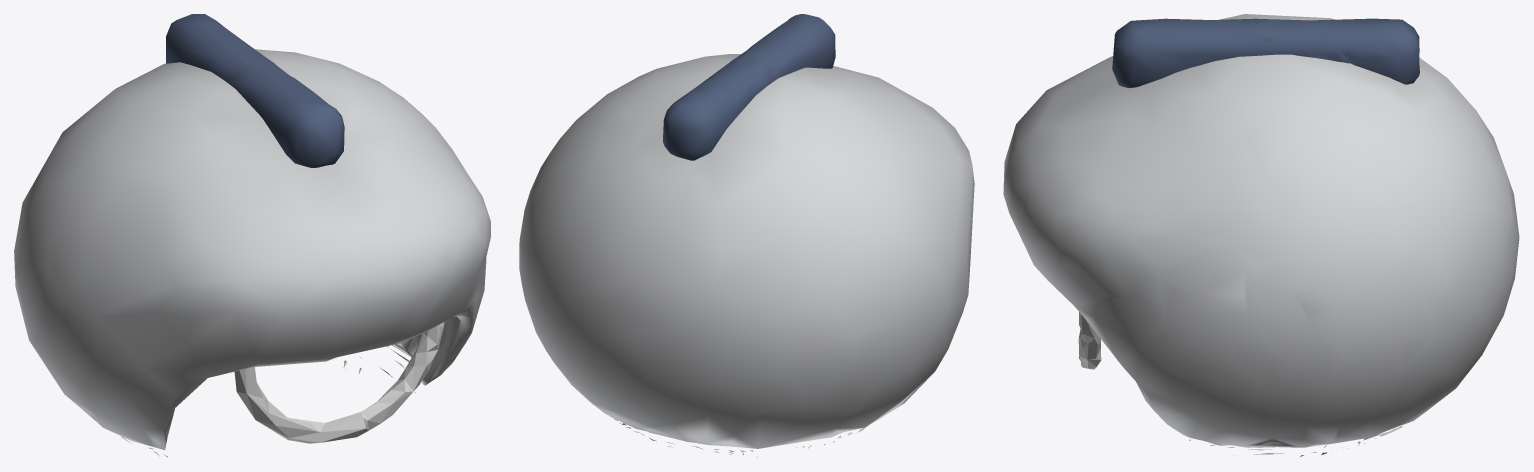
File: gear_casque_garde.glb
3 renders of one model, left to right at view 1: azimuth 30°, elevation 25°; view 2: azimuth 150°, elevation 25°; view 3: azimuth 270°, elevation 25°, orthographic. The views are drawn at different scales.
Visible parts, largest first — view 1: head__casque_garde, head__casque_garde_glow; view 2: head__casque_garde; view 3: head__casque_garde, head__casque_garde_glow.
Boxes of the visible parts, left/top/right/bottom form: head__casque_garde: left=14, top=14, right=490, bottom=457; head__casque_garde_glow: left=234, top=322, right=444, bottom=443; head__casque_garde: left=519, top=14, right=974, bottom=457; head__casque_garde: left=1003, top=14, right=1519, bottom=456; head__casque_garde_glow: left=1078, top=312, right=1101, bottom=369.
Size of the model in its own units: 0.5549 by 0.4603 by 0.57.
